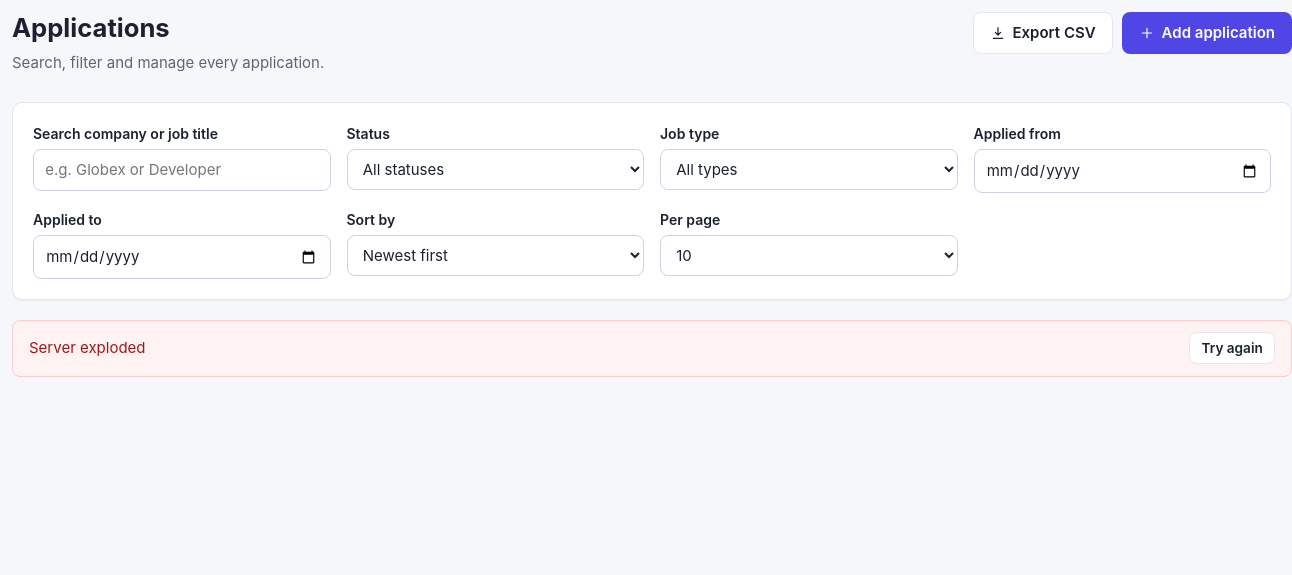
Test: Applications page › shows an error message with a retry button when loading fails
Expected: the message shows "Server exploded", [29, 338, 146, 357]
Click the button "Try again".
click(1232, 348)  # box [1189, 332, 1275, 364]
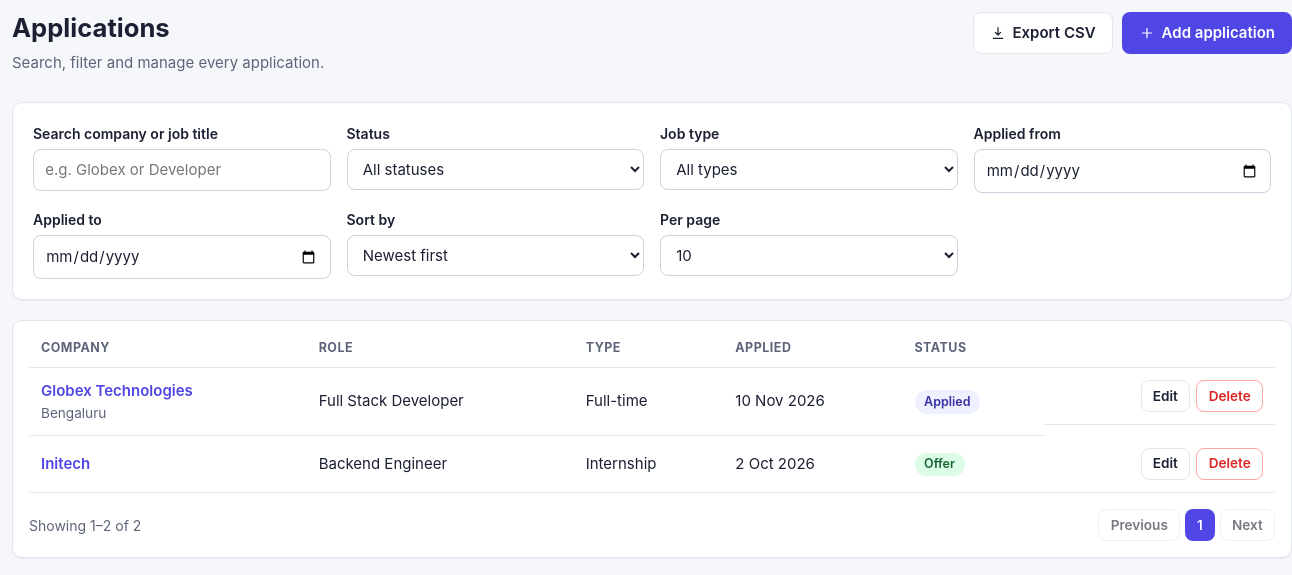
Expected: the link "Globex Technologies" is shown, [41, 381, 193, 400]
